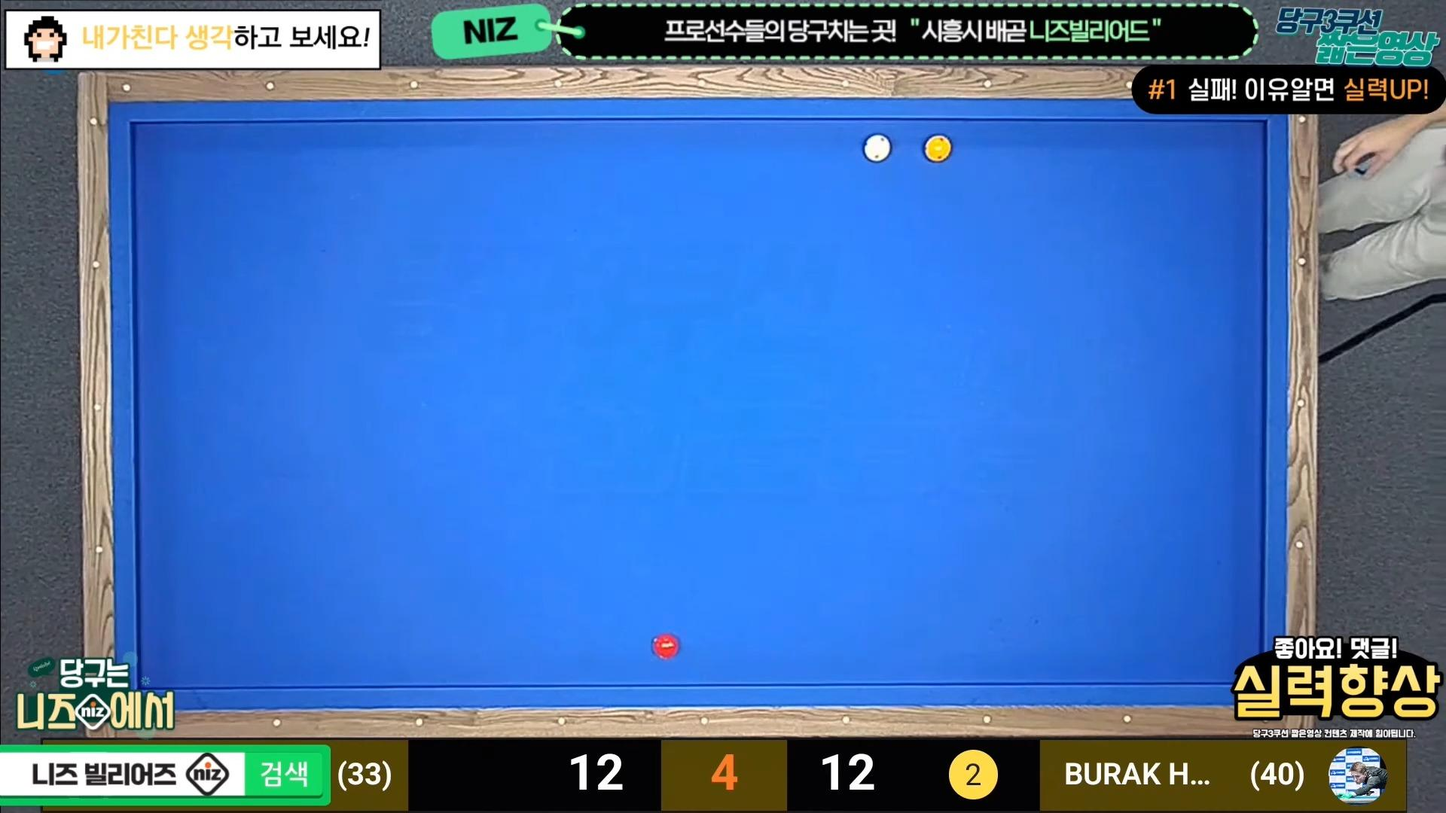-billiard-ball: (862, 132, 891, 163), (923, 133, 952, 163)
Red: (650, 633, 682, 659)
White: (863, 134, 894, 163)
Yellow: (925, 134, 958, 163)
